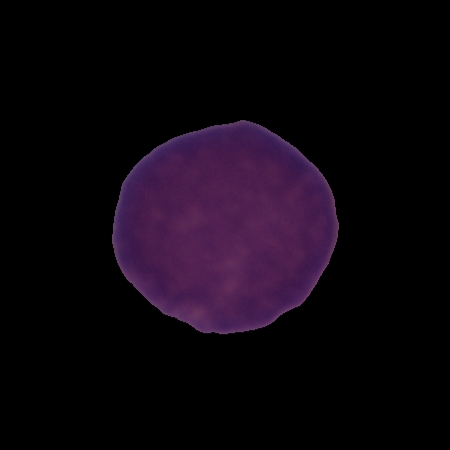HEM: (108, 116, 343, 339)
